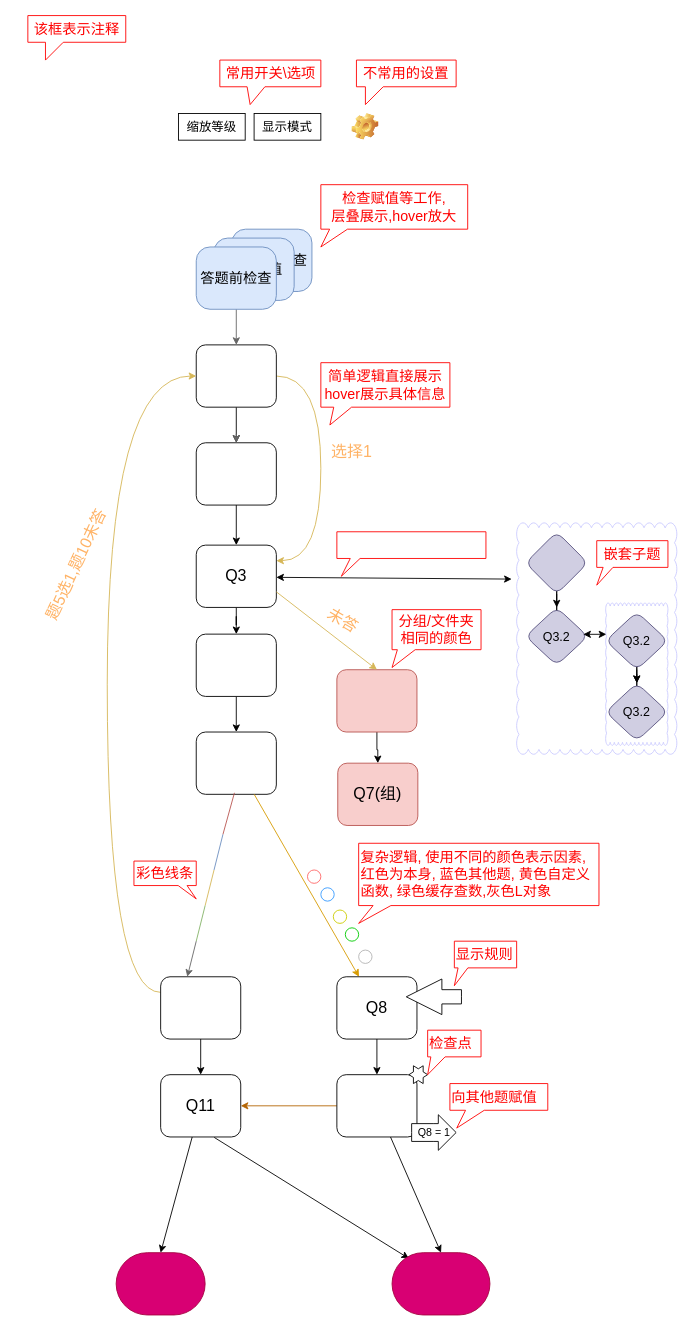
Image size: 693x1331. Some labels were removed from this diagram. The centre of each missing label's shape, as x and y in pixels:
"Q1" goes at [235,375].
"Q10" goes at [200,1007].
"Q2" goes at [235,473].
"Q3.1" goes at [556,562].
"Q4" goes at [235,664].
"Q5" goes at [235,762].
"Q6(组)" goes at [376,700].
"Q6选1" goes at [433,996].
"Q9" goes at [376,1105].
"双向线表示子题会回来" goes at [411,553].
"结果页" goes at [160,1283].
"默认结果页" goes at [440,1283].
